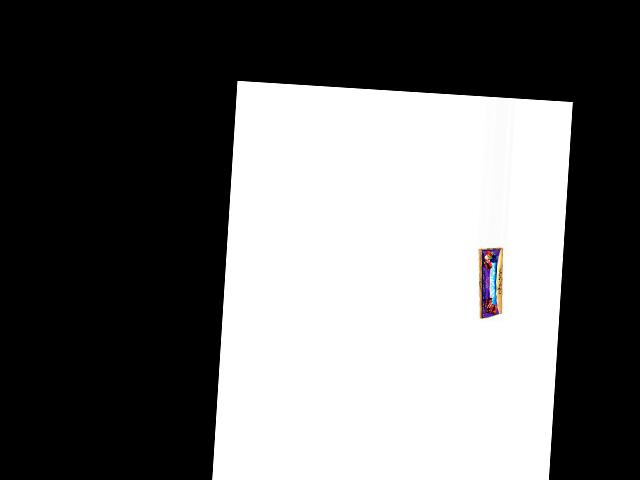chocolate: (473, 246, 503, 323)
